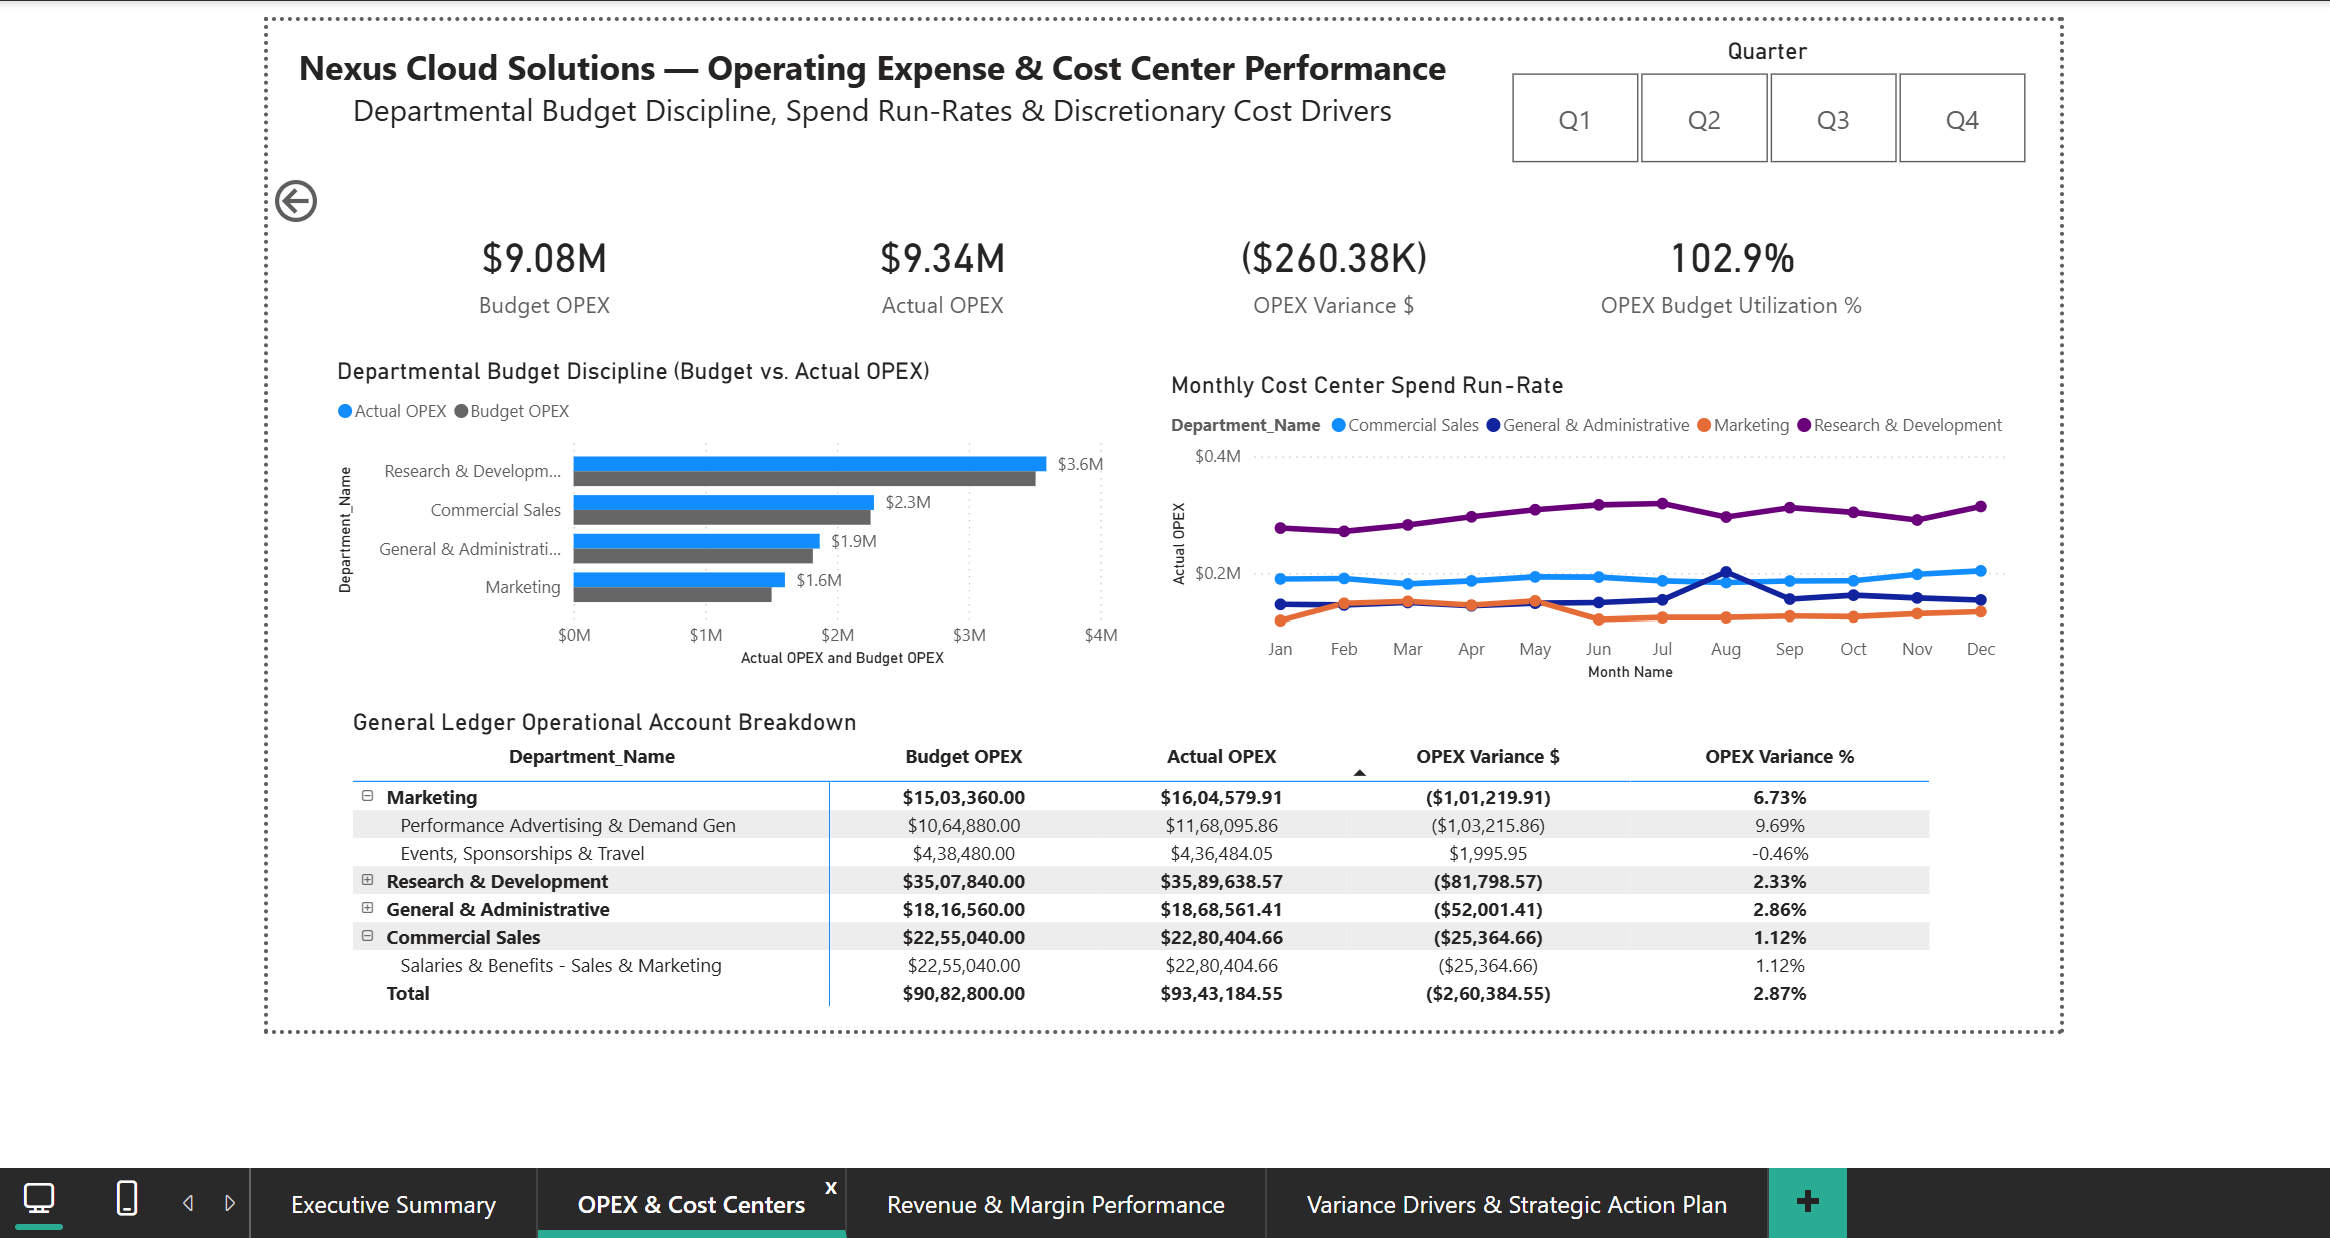

The page's visual inventory and layout, read from the dashboard file:
{"tool":"powerbi","page":{"name":"OPEX & Cost Centers","canvas":[1280,720],"ordinal":1},"visuals":[{"type":"textbox","box":[0,11.7,863.3,96.7],"z":0},{"type":"slicer","title":"Quarter","fields":{"Values":["Dim_Date.Quarter"]},"box":[863.3,11.7,416.7,96.7],"z":1000},{"type":"card","fields":{"Values":["_Measures.Actual OPEX"]},"box":[338.3,128.3,286.7,98.3],"z":2000},{"type":"card","fields":{"Values":["_Measures.Budget OPEX"]},"box":[55,128.3,283.3,98.3],"z":3000},{"type":"card","fields":{"Values":["_Measures.OPEX Variance $"]},"box":[625,128.3,271.7,98.3],"z":4000},{"type":"card","fields":{"Values":["_Measures.OPEX Budget Utilization %"]},"box":[896.7,128.3,296.7,98.3],"z":5000},{"type":"clusteredBarChart","title":"Departmental Budget Discipline (Budget vs. Actual OPEX)","fields":{"Category":["Dim_Department.Department_Name"],"Y":["_Measures.Actual OPEX","_Measures.Budget OPEX"]},"box":[45,240,575,225],"z":6000},{"type":"lineChart","title":"Monthly Cost Center Spend Run-Rate","fields":{"Category":["Dim_Date.Month Name"],"Y":["_Measures.Actual OPEX"],"Series":["Dim_Department.Department_Name"]},"box":[640,250,606.7,225],"z":7000},{"type":"pivotTable","title":"General Ledger Operational Account Breakdown","fields":{"Rows":["Dim_Department.Department_Name","Dim_Account.Account_Name"],"Values":["_Measures.Budget OPEX","_Measures.Actual OPEX","_Measures.OPEX Variance $","_Measures.OPEX Variance %"]},"box":[56,490,1138,232],"z":8000},{"type":"actionButton","box":[0,108.3,100,40],"z":9000}]}

Visuals, with their boxes on the page's 1280x720 design canvas (x1, y1, x2, y2). These are canvas units, not pixel positions in the 2330x1238 screenshot, which may show the page scaled, cropped or inside an application window:
textbox: 0,12,863,108
"Quarter" slicer: 863,12,1280,108
card - _Measures.Actual OPEX: 338,128,625,227
card - _Measures.Budget OPEX: 55,128,338,227
card - _Measures.OPEX Variance $: 625,128,897,227
card - _Measures.OPEX Budget Utilization %: 897,128,1193,227
"Departmental Budget Discipline (Budget vs. Actual OPEX)" clusteredBarChart: 45,240,620,465
"Monthly Cost Center Spend Run-Rate" lineChart: 640,250,1247,475
"General Ledger Operational Account Breakdown" pivotTable: 56,490,1194,722
actionButton: 0,108,100,148
